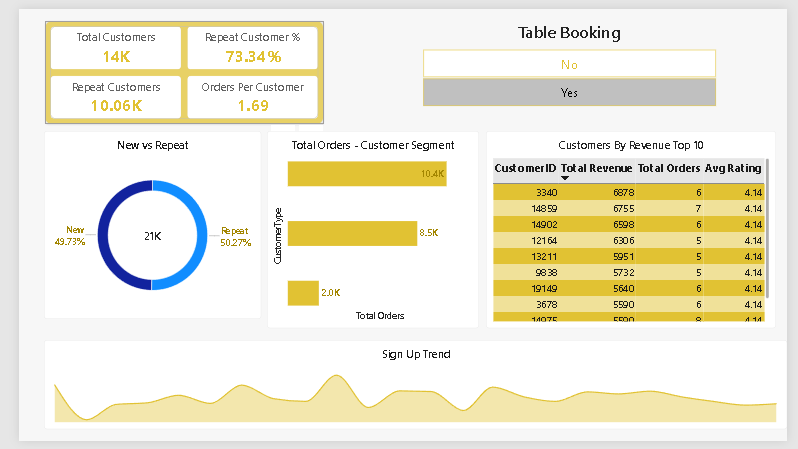

This screenshot's page, from the dashboard's own definition file:
{"tool":"powerbi","page":{"name":"Customer Analytics ","canvas":[1920,1080],"ordinal":1},"visuals":[{"type":"cardVisual","fields":{"Data":["Customers.Total Customers","Customers.Repeat Customer %","Customers.Repeat Customers","Customers.Orders Per Customer"]},"box":[64.1,29.6,697.5,258.8],"z":0},{"type":"lineChart","title":"Sign Up Trend","fields":{"Category":["Customers.SignupDate.Variation.Date Hierarchy.Year","Customers.SignupDate.Variation.Date Hierarchy.Month"],"Y":["Customers.Total Customers"]},"box":[62.5,827.5,1857.5,222.5],"z":1000},{"type":"barChart","title":"Total Orders - Customer Segment","fields":{"Category":["Customers.CustomerType"],"Y":["Orders.Total Orders"]},"box":[621.1,305.6,529.9,492.9],"z":2000},{"type":"donutChart","title":"New vs Repeat","fields":{"Category":["Customers.CustomerType"],"Y":["Orders.Total Orders"]},"box":[62.5,305,542.5,470],"z":3000},{"type":"tableEx","title":"Customers By Revenue Top 10","fields":{"Values":["Customers.CustomerID","Orders.Total Revenue","Orders.Total Orders","Restaurants.Avg Rating"]},"box":[1168.3,305.6,724.6,492.9],"z":4000},{"type":"slicer","title":"Table Booking","fields":{"Values":["Restaurants.Book_Table"]},"box":[990.8,29.6,771.5,214.4],"z":5000}]}

Visuals, with their boxes in screenshot pixels (x1, y1, x2, y2), scaled from the page's 1920x1080 canvas onto the 798x449 screenshot:
cardVisual - Customers.Total Customers x Customers.Repeat Customer %: [27, 12, 317, 120]
"Sign Up Trend" lineChart: [26, 344, 797, 437]
"Total Orders - Customer Segment" barChart: [258, 127, 478, 332]
"New vs Repeat" donutChart: [26, 127, 251, 322]
"Customers By Revenue Top 10" tableEx: [486, 127, 787, 332]
"Table Booking" slicer: [412, 12, 732, 101]
